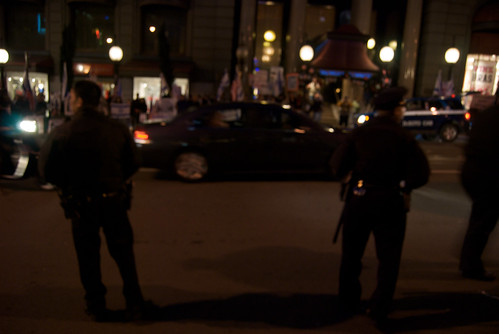car: (129, 100, 374, 183), (361, 93, 469, 139)
policeman: (41, 81, 144, 311), (327, 86, 430, 316)
street: (10, 180, 499, 334)
